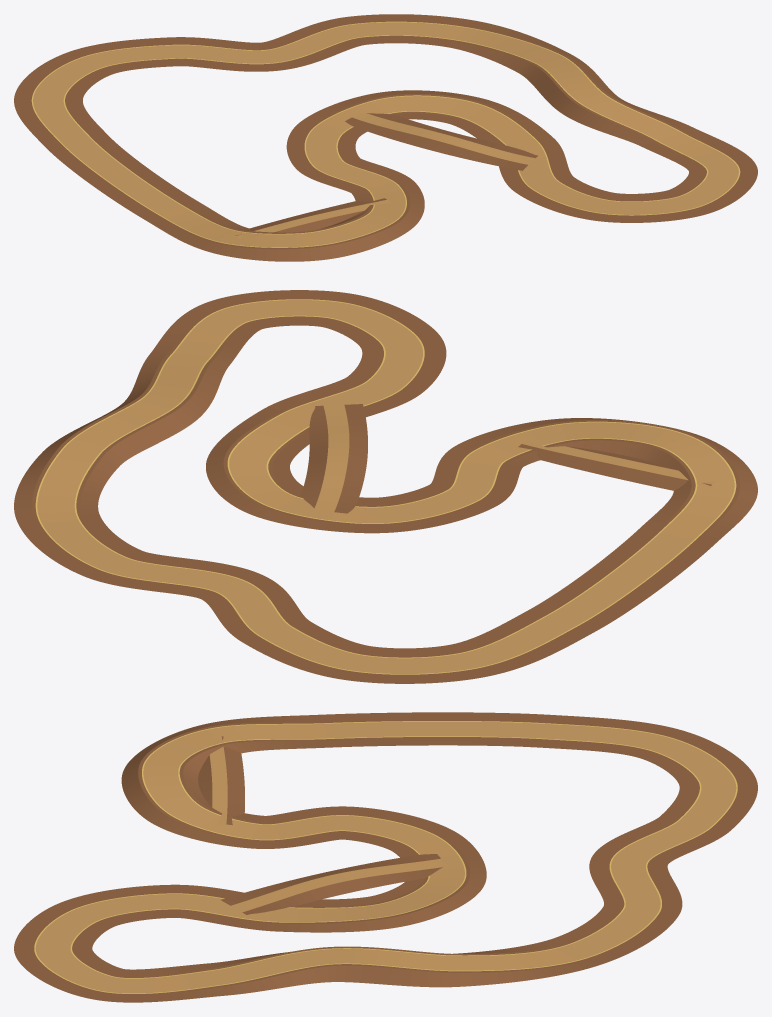
File: course_milharal.glb
The picture shows the model from 3 angles, top to bottom: view 1: azimuth 30°, elevation 25°; view 2: azimuth 150°, elevation 25°; view 3: azimuth 270°, elevation 25°; orthographic projection. The views are drawn at different scales.
Visible parts, largest first — view 1: Road, EarthSlopes, EarthSlopes.001, ShoulderLeft, ShoulderRight, EdgeLeft, EdgeRight, ShortcutSlopes.002, Shortcut.001, ShortcutSlopes.003, Shortcut, ShortcutSlopes.001 (+1 smaller); view 2: Road, EarthSlopes.001, EarthSlopes, ShoulderLeft, ShoulderRight, EdgeLeft, EdgeRight, Shortcut.001, ShortcutSlopes.002, ShortcutSlopes.001, ShortcutSlopes.003, Shortcut; view 3: Road, EarthSlopes, EarthSlopes.001, ShoulderLeft, ShoulderRight, EdgeLeft, EdgeRight, Shortcut.001, ShortcutSlopes.003, ShortcutSlopes.002, ShortcutSlopes.001, Shortcut (+1 smaller).
Part boxes in pixels (<box>): Road: <box>33,22,738,247</box>; EarthSlopes: <box>14,14,757,261</box>; EarthSlopes.001: <box>68,37,703,232</box>; ShoulderLeft: <box>28,20,743,249</box>; ShoulderRight: <box>65,35,706,233</box>; EdgeLeft: <box>31,21,740,247</box>; EdgeRight: <box>63,35,708,234</box>; ShortcutSlopes.002: <box>345,117,527,170</box>; Shortcut.001: <box>352,113,534,164</box>; ShortcutSlopes.003: <box>367,113,537,158</box>; Shortcut: <box>236,200,390,238</box>; ShortcutSlopes.001: <box>235,198,386,235</box>; Road: <box>37,300,734,673</box>; EarthSlopes.001: <box>80,318,691,655</box>; EarthSlopes: <box>14,290,757,683</box>; ShoulderLeft: <box>31,297,740,676</box>; ShoulderRight: <box>76,316,695,657</box>; EdgeLeft: <box>35,299,736,674</box>; EdgeRight: <box>74,315,697,658</box>; Shortcut.001: <box>314,404,349,511</box>; ShortcutSlopes.002: <box>334,404,367,513</box>; ShortcutSlopes.001: <box>518,444,711,490</box>; ShortcutSlopes.003: <box>300,405,328,508</box>; Shortcut: <box>522,440,715,484</box>; Road: <box>35,721,736,993</box>; EarthSlopes: <box>14,712,757,1002</box>; EarthSlopes.001: <box>75,738,696,976</box>; ShoulderLeft: <box>30,719,741,995</box>; ShoulderRight: <box>72,737,699,977</box>; EdgeLeft: <box>34,721,737,993</box>; EdgeRight: <box>70,736,701,978</box>; Shortcut.001: <box>231,858,445,912</box>; ShortcutSlopes.003: <box>242,867,442,914</box>; ShortcutSlopes.002: <box>221,854,440,905</box>; ShortcutSlopes.001: <box>221,736,244,825</box>; Shortcut: <box>209,736,227,824</box>.
Size of the model in its own units: 316 by 5 by 342.
